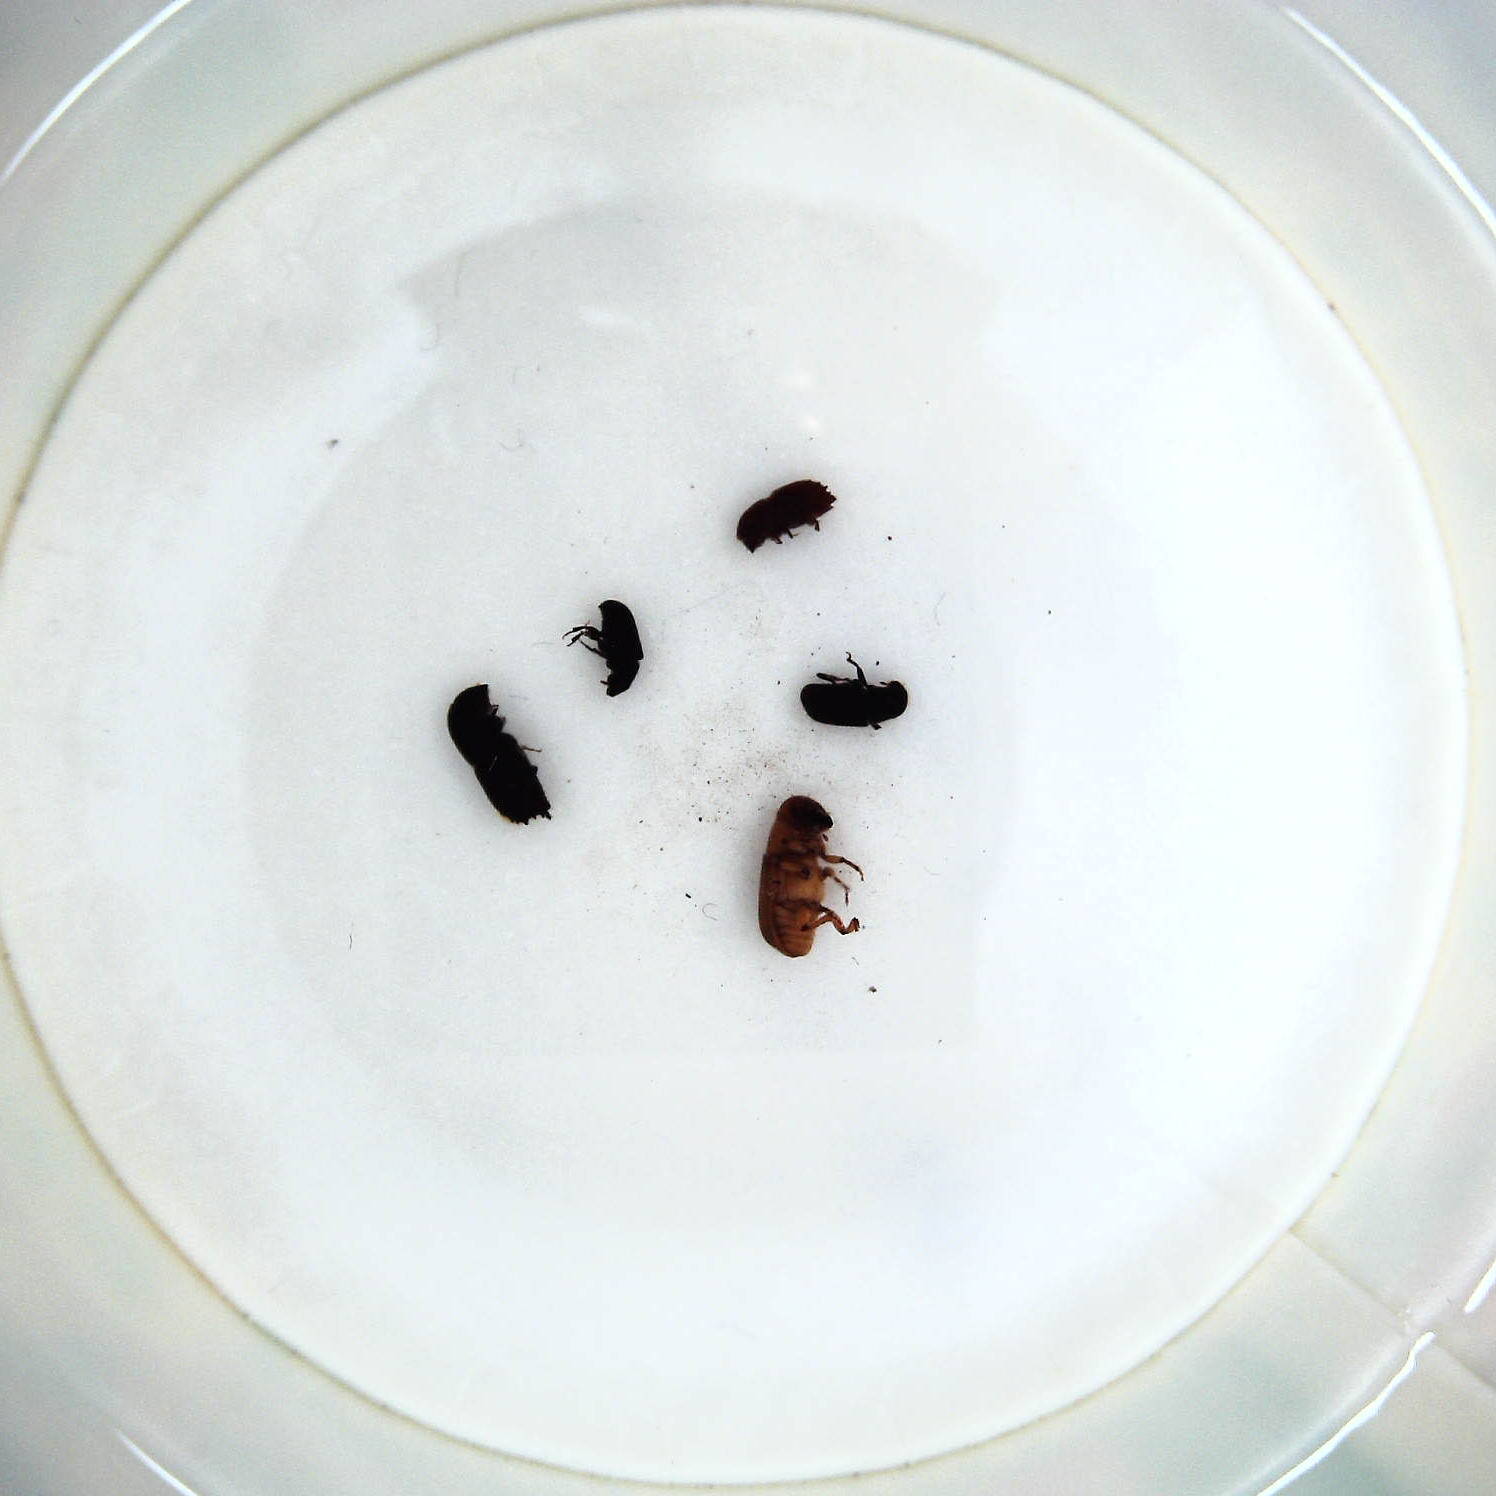Boerner: (436, 675, 560, 832)
Leconte: (753, 786, 877, 969)
armandi: (799, 653, 914, 738)
coleoptera: (564, 592, 647, 704)
linnaeus: (729, 478, 841, 556)
